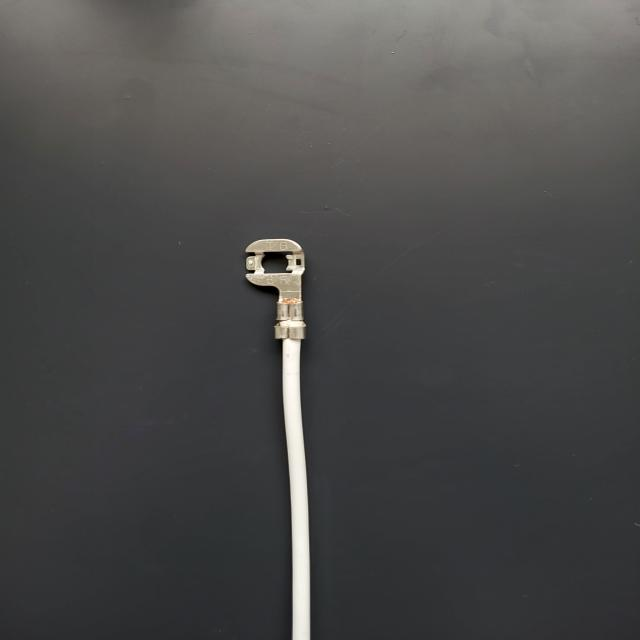good: (2, 3, 634, 640)
